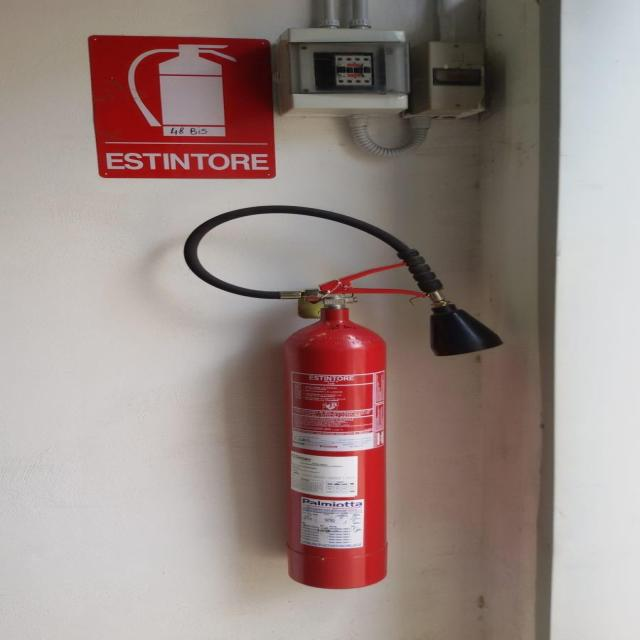fire_extinguisher: (181, 202, 509, 592)
